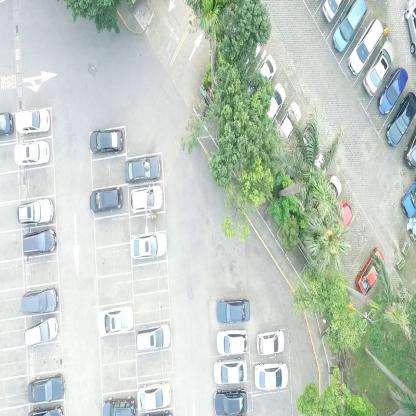car: (348, 18, 384, 78), (331, 0, 368, 56), (363, 38, 396, 95), (384, 91, 416, 149), (376, 66, 409, 118), (324, 203, 353, 255), (272, 100, 301, 151), (313, 173, 342, 223), (355, 247, 384, 296), (20, 284, 60, 316), (248, 55, 276, 100), (290, 127, 316, 175), (260, 83, 286, 131), (16, 196, 57, 226), (24, 316, 60, 350), (299, 153, 326, 198), (136, 320, 171, 354), (100, 303, 134, 338), (27, 374, 65, 405), (22, 227, 59, 258), (15, 104, 51, 135), (124, 155, 161, 185), (137, 380, 171, 412), (129, 184, 164, 215), (13, 139, 51, 167), (131, 231, 167, 260), (211, 389, 249, 415), (254, 362, 289, 390), (90, 185, 124, 213), (215, 297, 250, 324), (90, 128, 124, 155), (212, 359, 247, 385), (216, 328, 248, 354), (102, 394, 136, 416), (256, 331, 286, 354), (404, 0, 416, 57), (401, 125, 416, 169), (402, 177, 416, 222), (322, 0, 346, 25), (26, 403, 64, 415), (0, 111, 13, 139)
